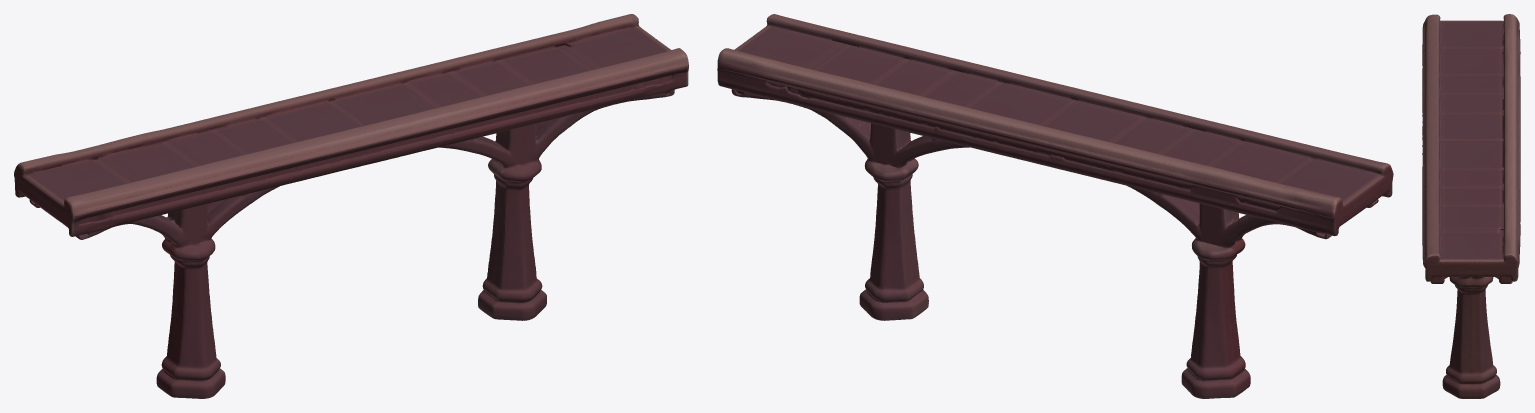
Rendered from bridge_module.glb.
3 renders of one model, left to right at view 1: azimuth 30°, elevation 25°; view 2: azimuth 150°, elevation 25°; view 3: azimuth 270°, elevation 25°, orthographic. The views are drawn at different scales.
Parts seen in each view (by area): view 1: bridge_module; view 2: bridge_module; view 3: bridge_module.
Boxes of the visible parts, x1,y1,x2,y2 form: bridge_module: [14, 14, 688, 398]; bridge_module: [717, 14, 1393, 398]; bridge_module: [1422, 14, 1520, 398].
Size of the model in its own units: 25 by 9.31 by 4.3.
Materials: 1 (1 with a texture image).
